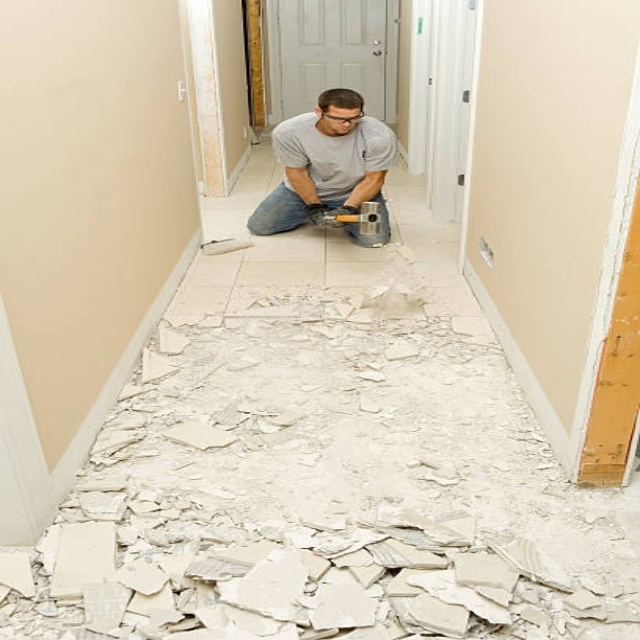Gafas: (322, 110, 364, 124)
Guantes: (301, 195, 356, 228)
Sin_mascara: (331, 123, 355, 136)
